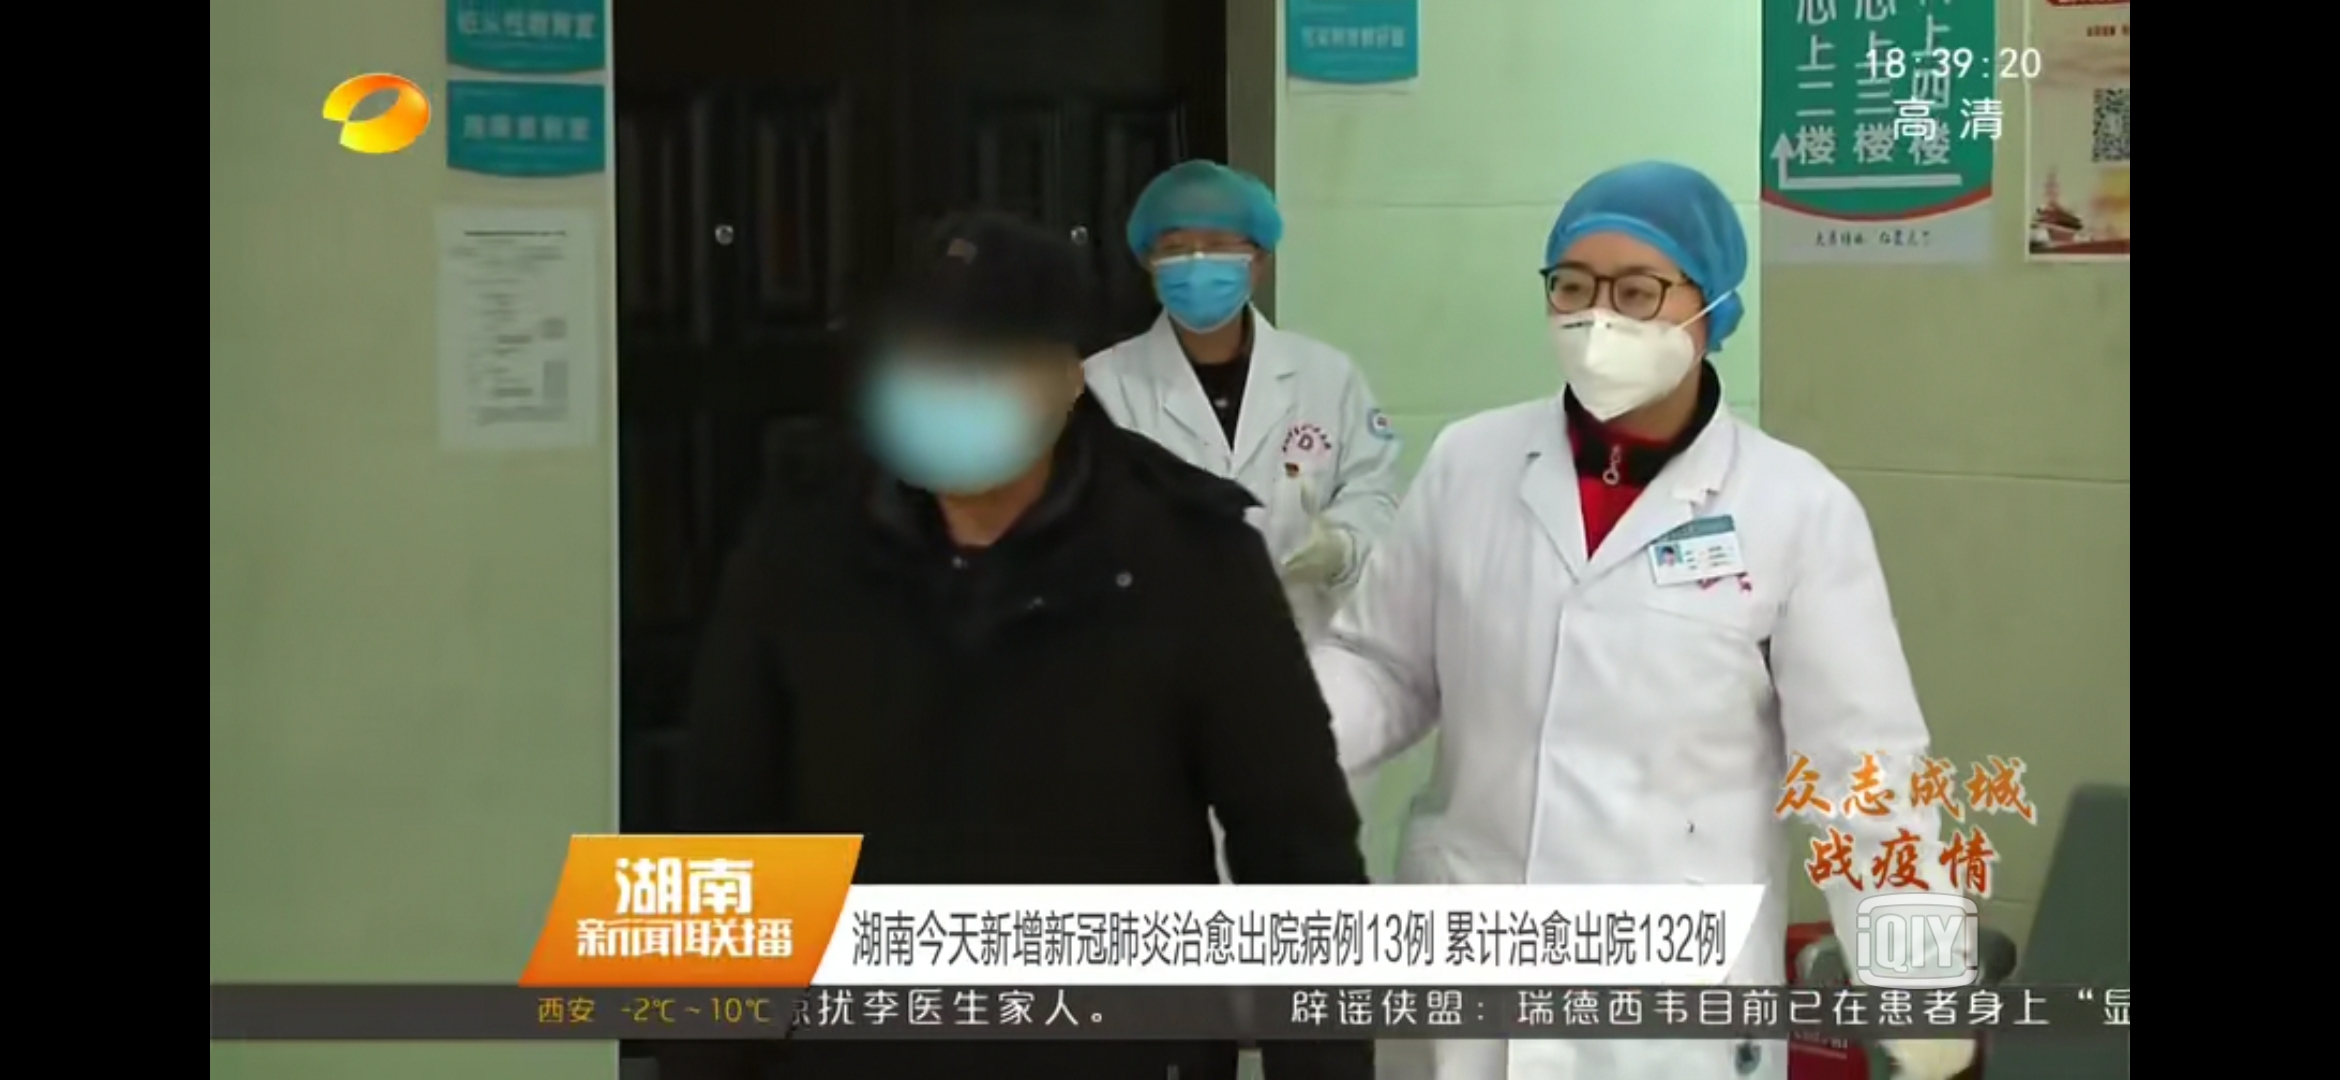correctlyWear: (1539, 240, 1706, 421), (1136, 210, 1261, 333)
